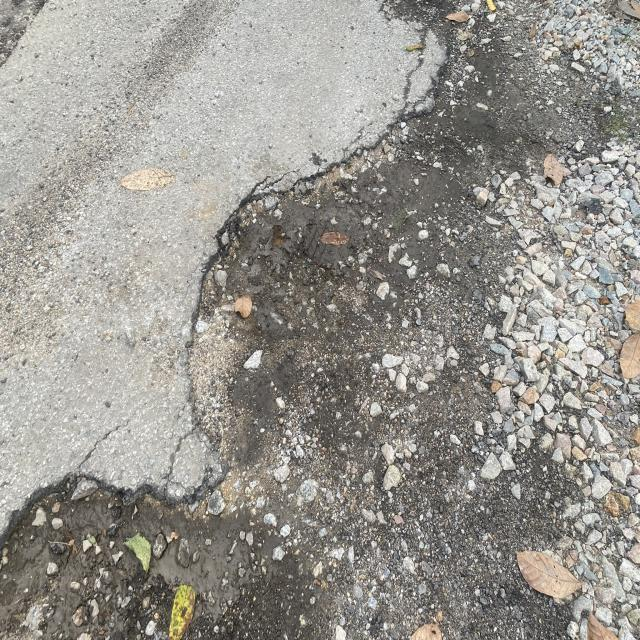pothole: (162, 162, 337, 436), (2, 432, 200, 640)
